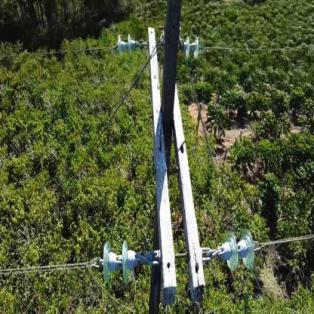Poste: (148, 2, 183, 314)
